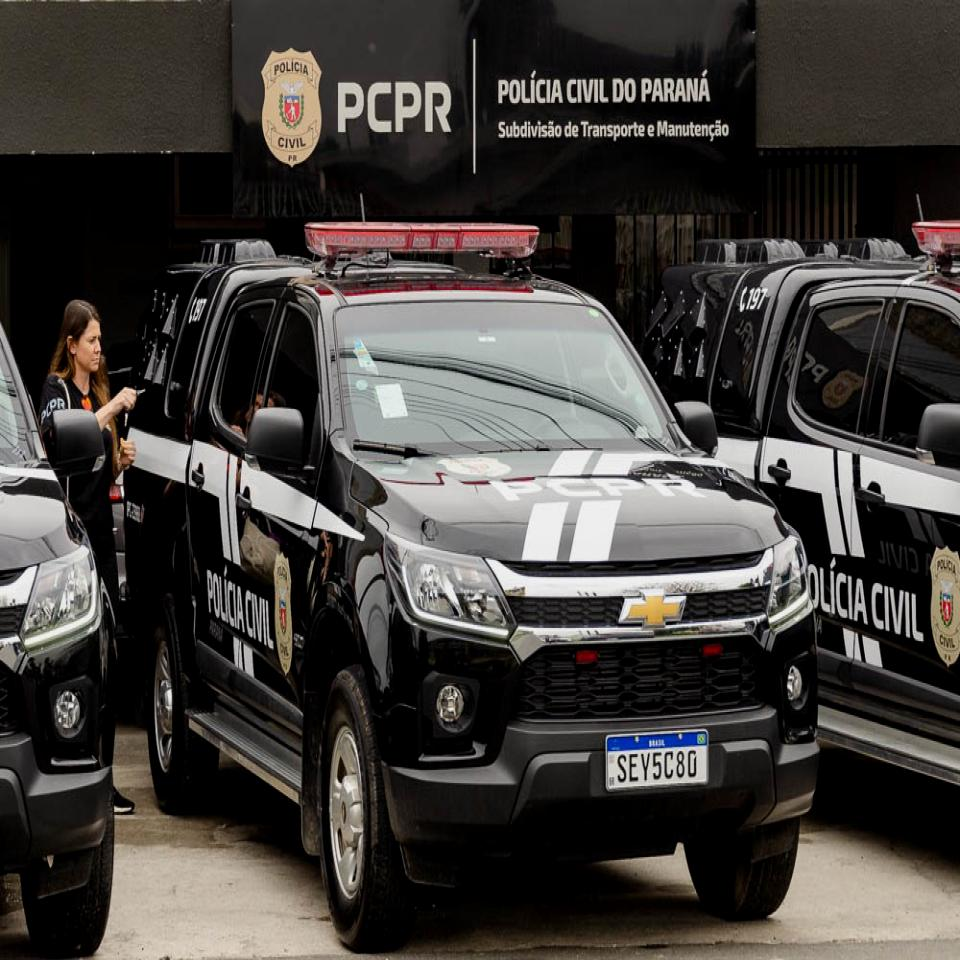viatura: (121, 207, 816, 941)
